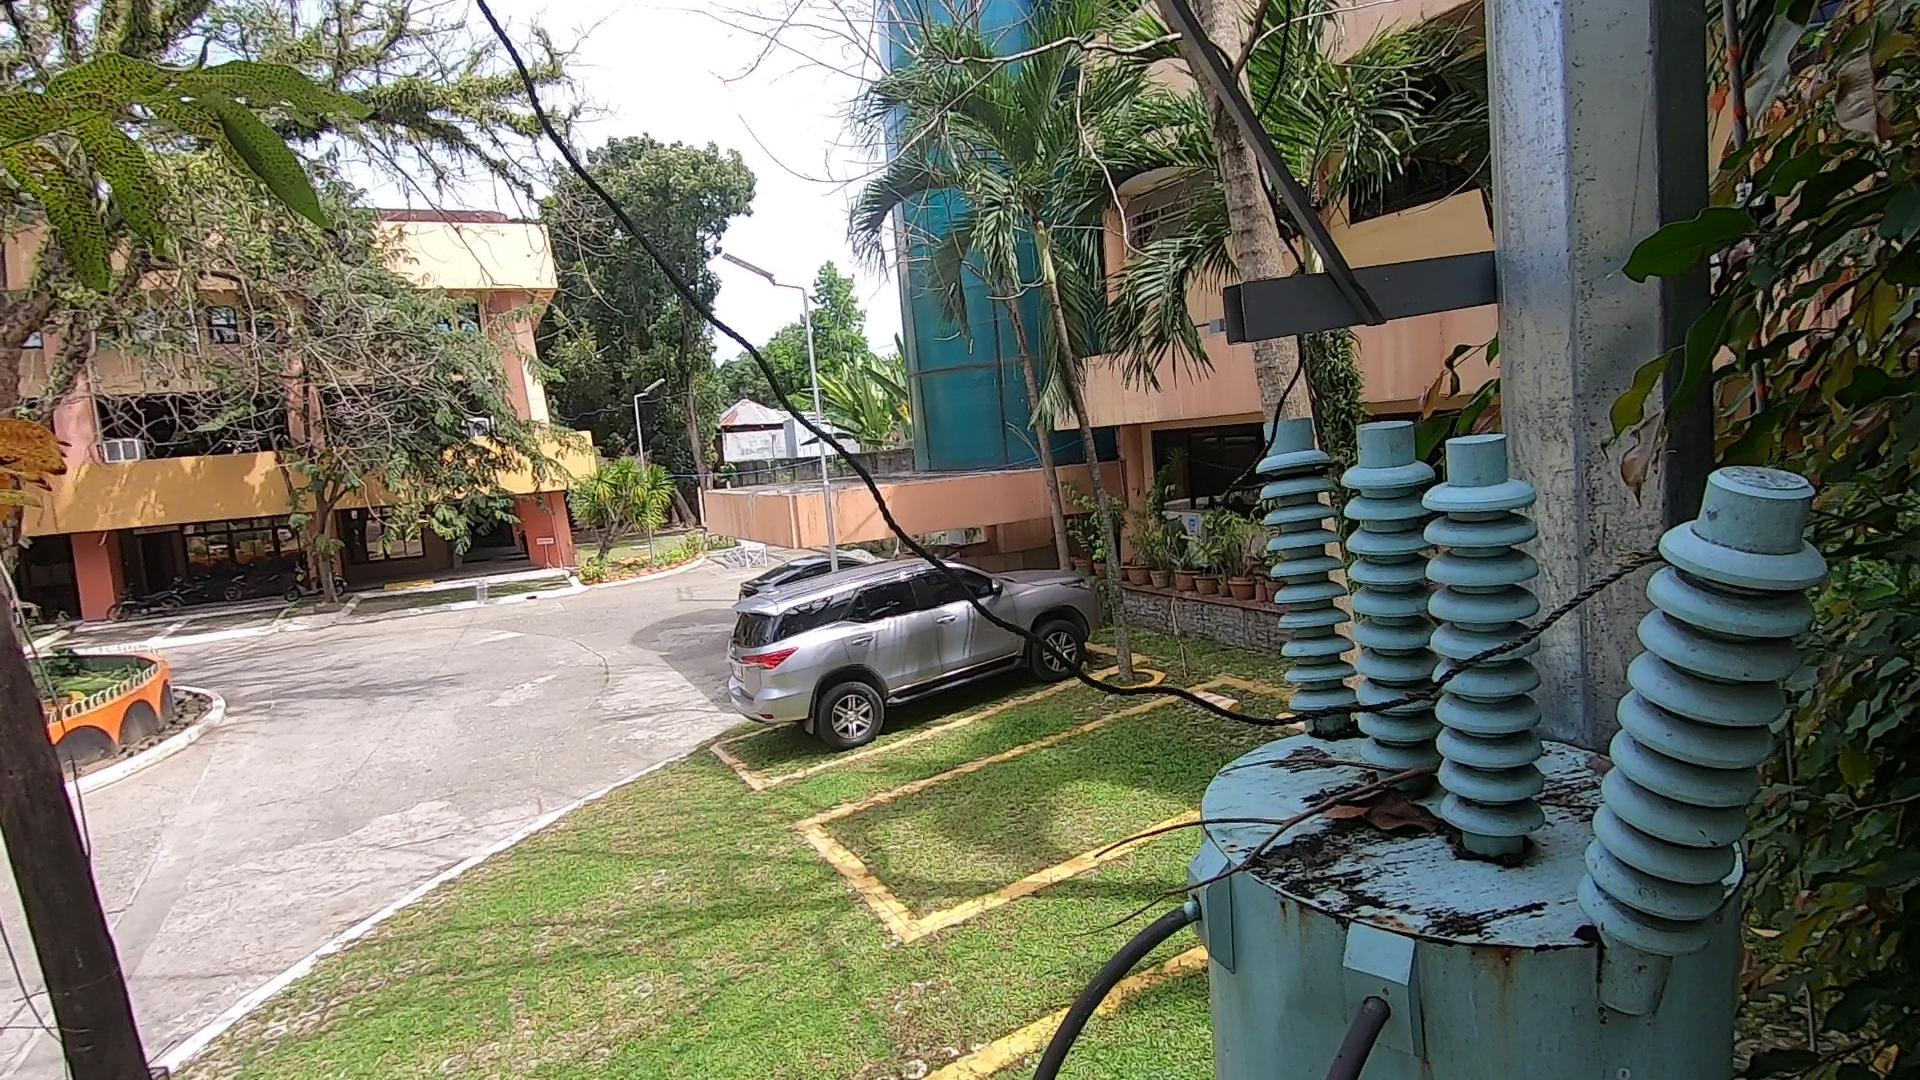leaf: (1302, 773, 1447, 851), (1302, 709, 1375, 750)
tree branch: (1065, 757, 1443, 944)
